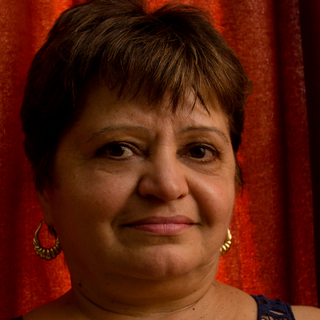eye: (94, 138, 143, 162), (181, 139, 223, 164)
